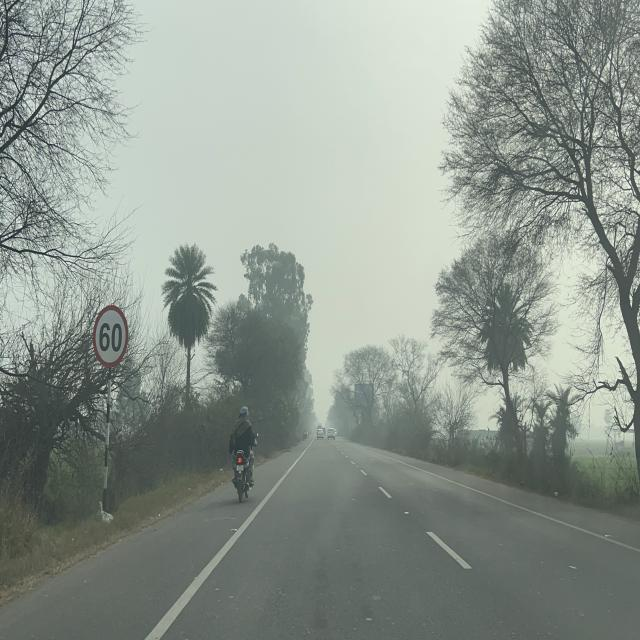SPEED_LIMIT_60: (92, 303, 128, 367)
